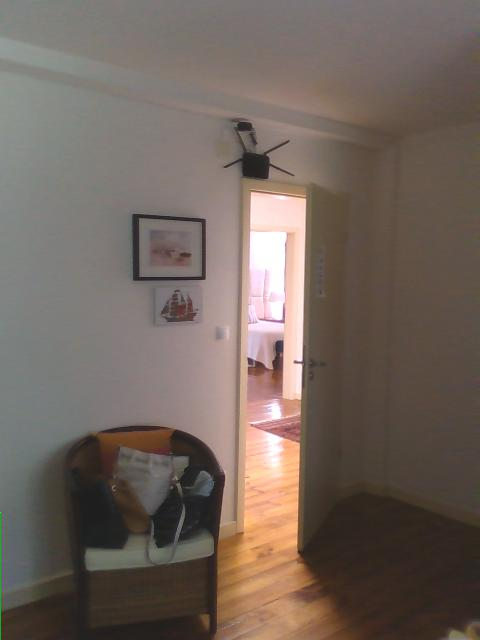semi_door: (234, 172, 334, 553)
